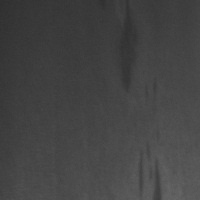inclusion: (112, 1, 147, 97), (133, 133, 165, 200)
